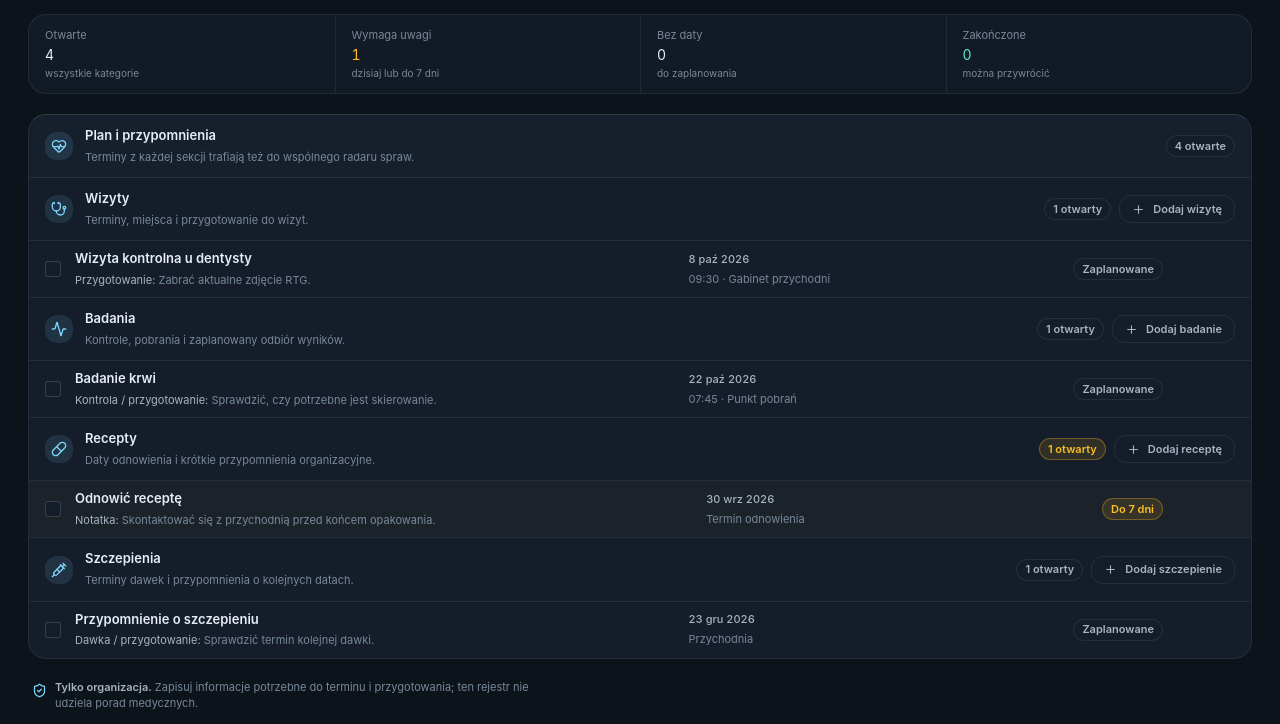
Scenario: HealthWorkspace › completes and restores an entry from its category
Click the checkbox named "Oznacz jako zakończone: Odnowić receptę" at (54, 510), box [45,502,63,518]
(page scrolled)
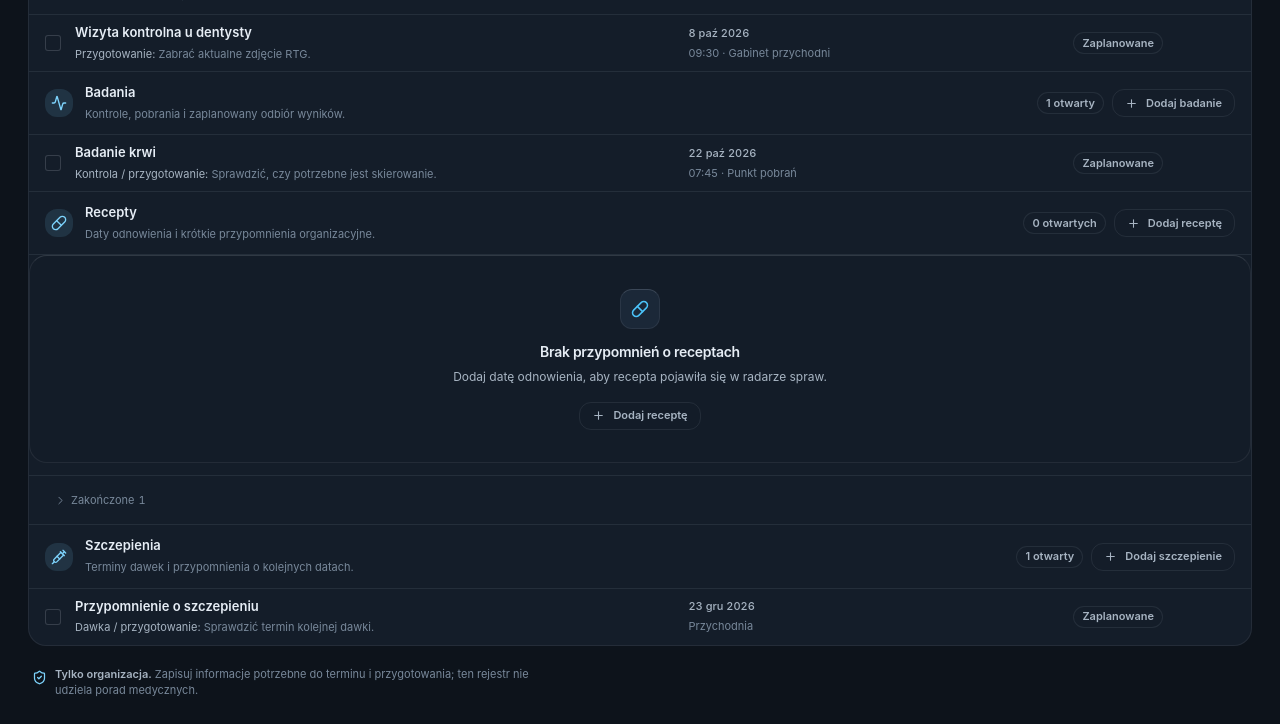
Result: the button with class "ui-completed-section__toggle" is shown
Click the button with class "ui-completed-section__toggle" at (100, 500), box [45,484,155,516]
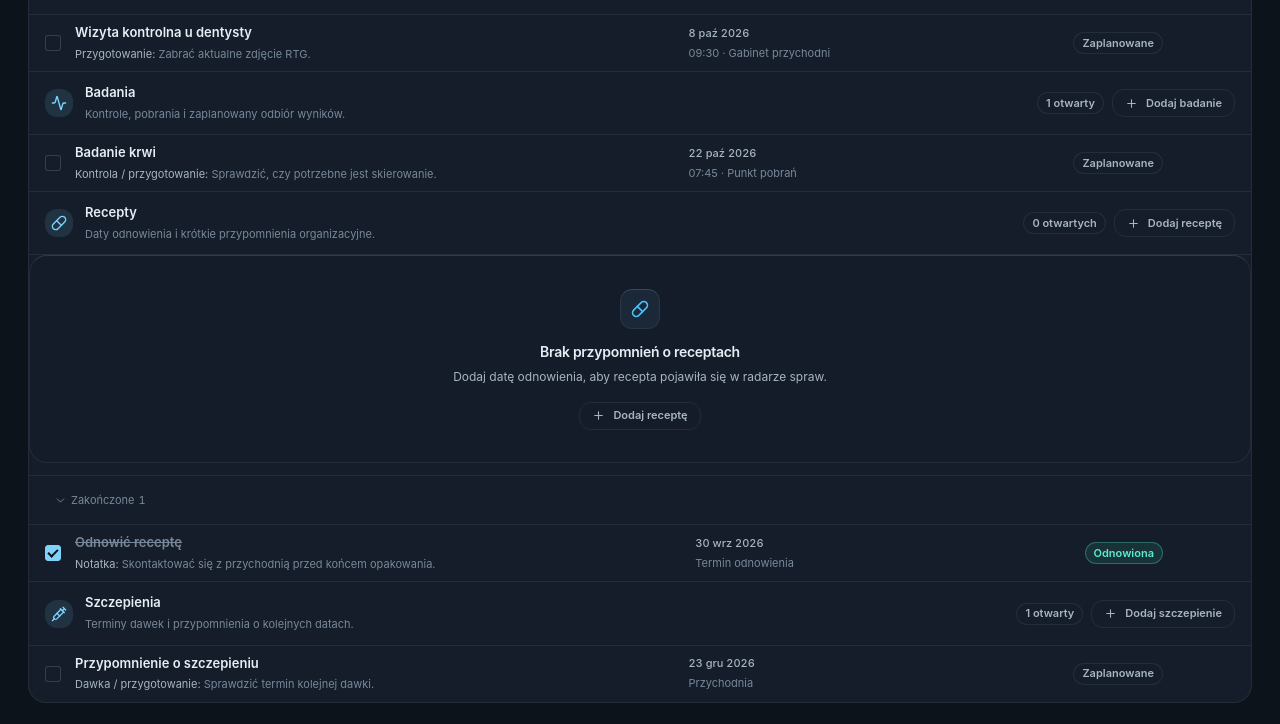
Result: the text "Odnowiona" is shown at [1084,542,1163,564]
Click the checkbox named "Przywróć wpis: Odnowić receptę" at (54, 554), box [45,546,63,562]
(page scrolled)
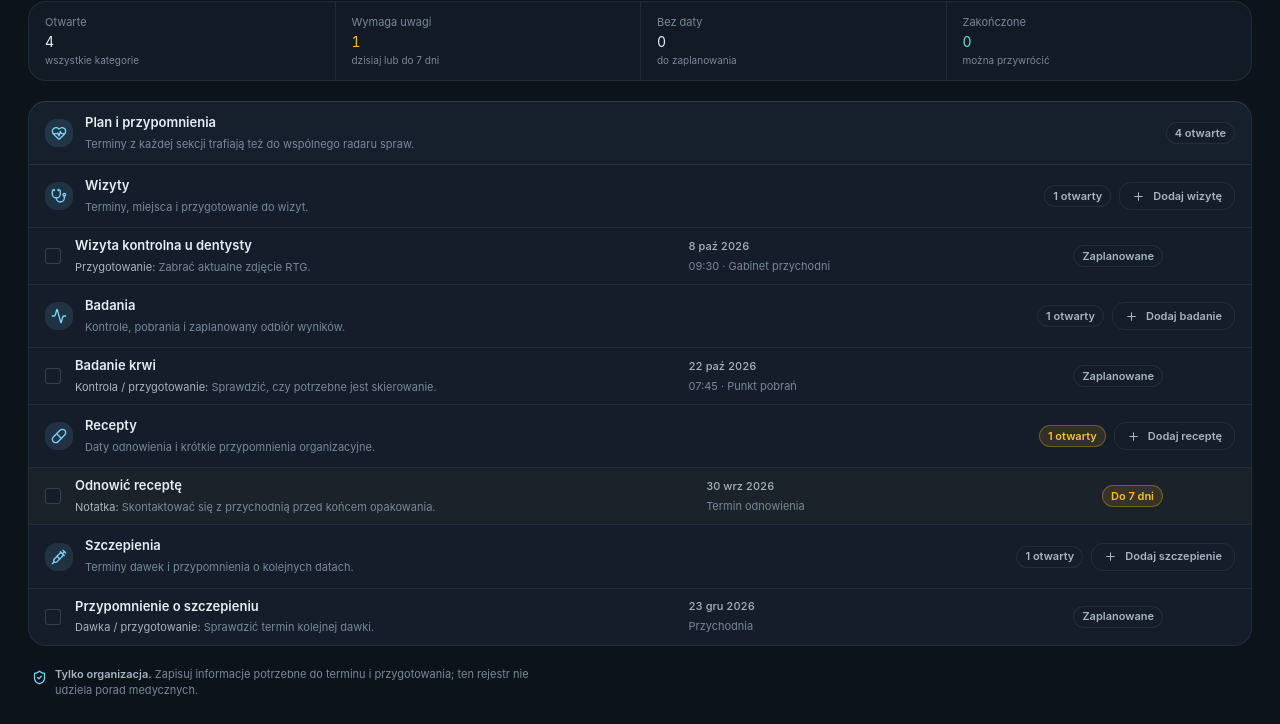
Result: the text "Do 7 dni" is shown at [1102,486,1163,508]
